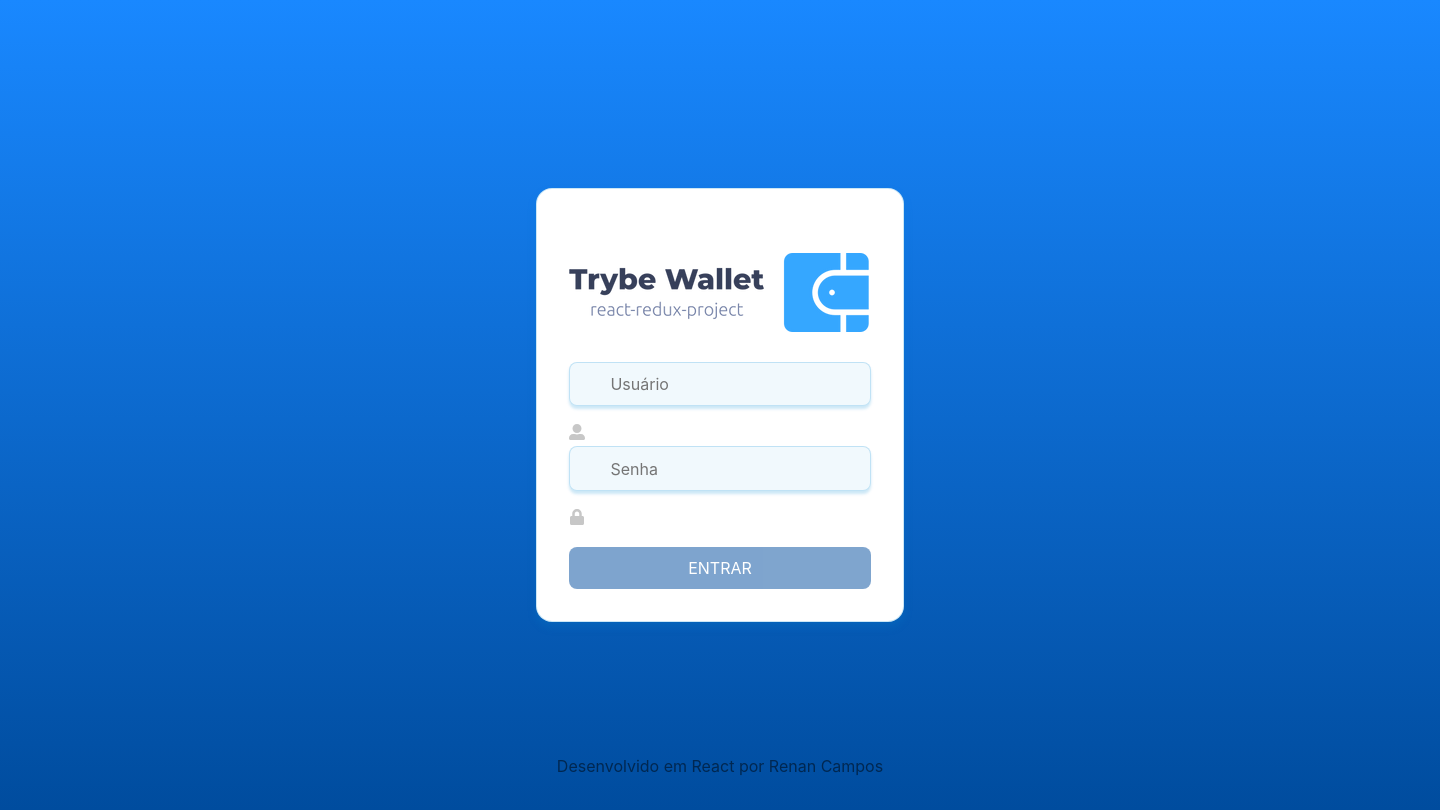
Scenario: Tests for Trybe Wallet application › Login Component
Expected: the password field with placeholder "Senha" is shown, [569,446,871,491]
Expected: the button is shown, [569,547,871,589]
Type "daniel@wolter.com" into the field with placeholder "Usuário".
click(720, 384); type("daniel@wolter.com")  # box [569,362,871,406]
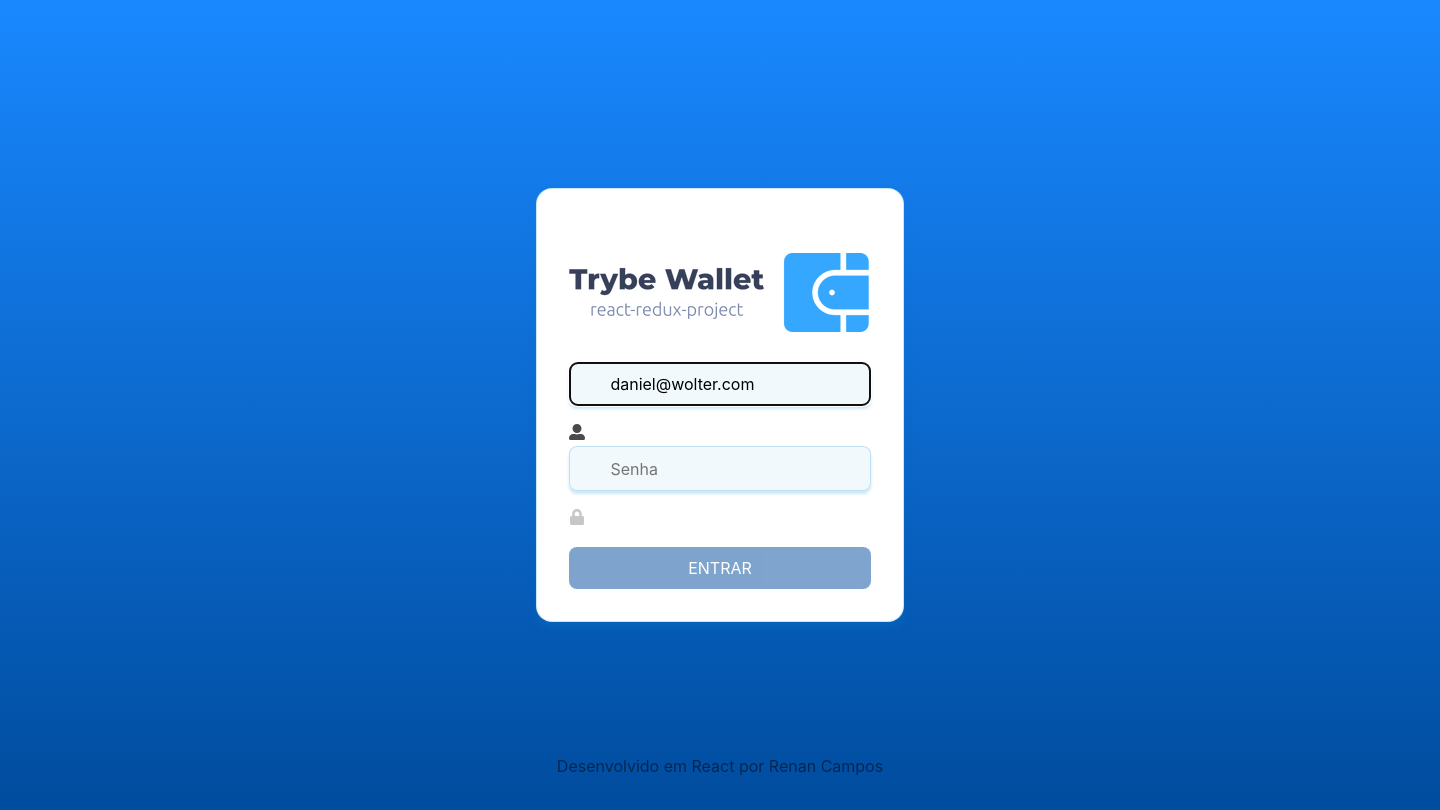
Type "12345678" into the password field with placeholder "Senha".
click(720, 468); type("12345678")  # box [569,446,871,491]
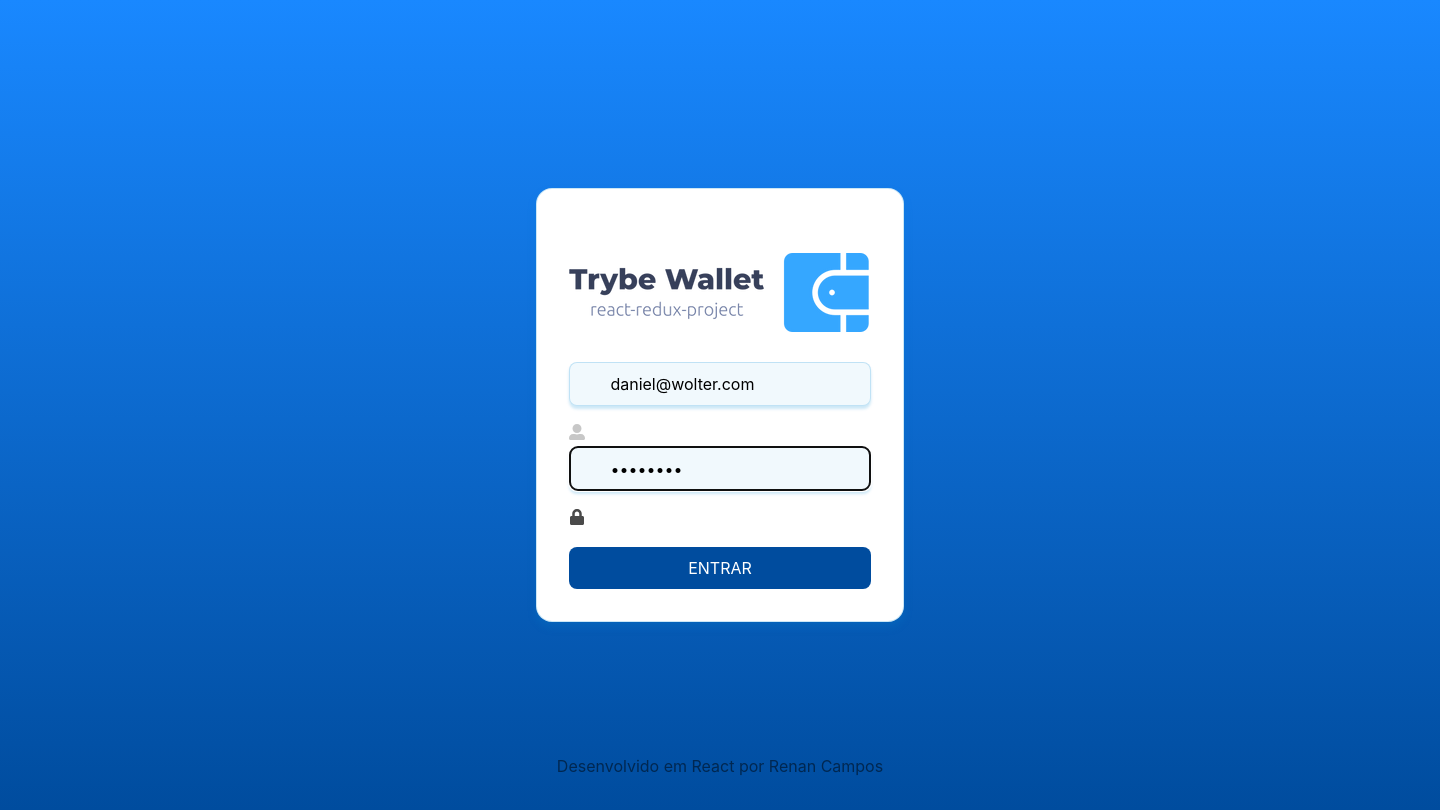
Click the button.
click(720, 568)  # box [569,547,871,589]
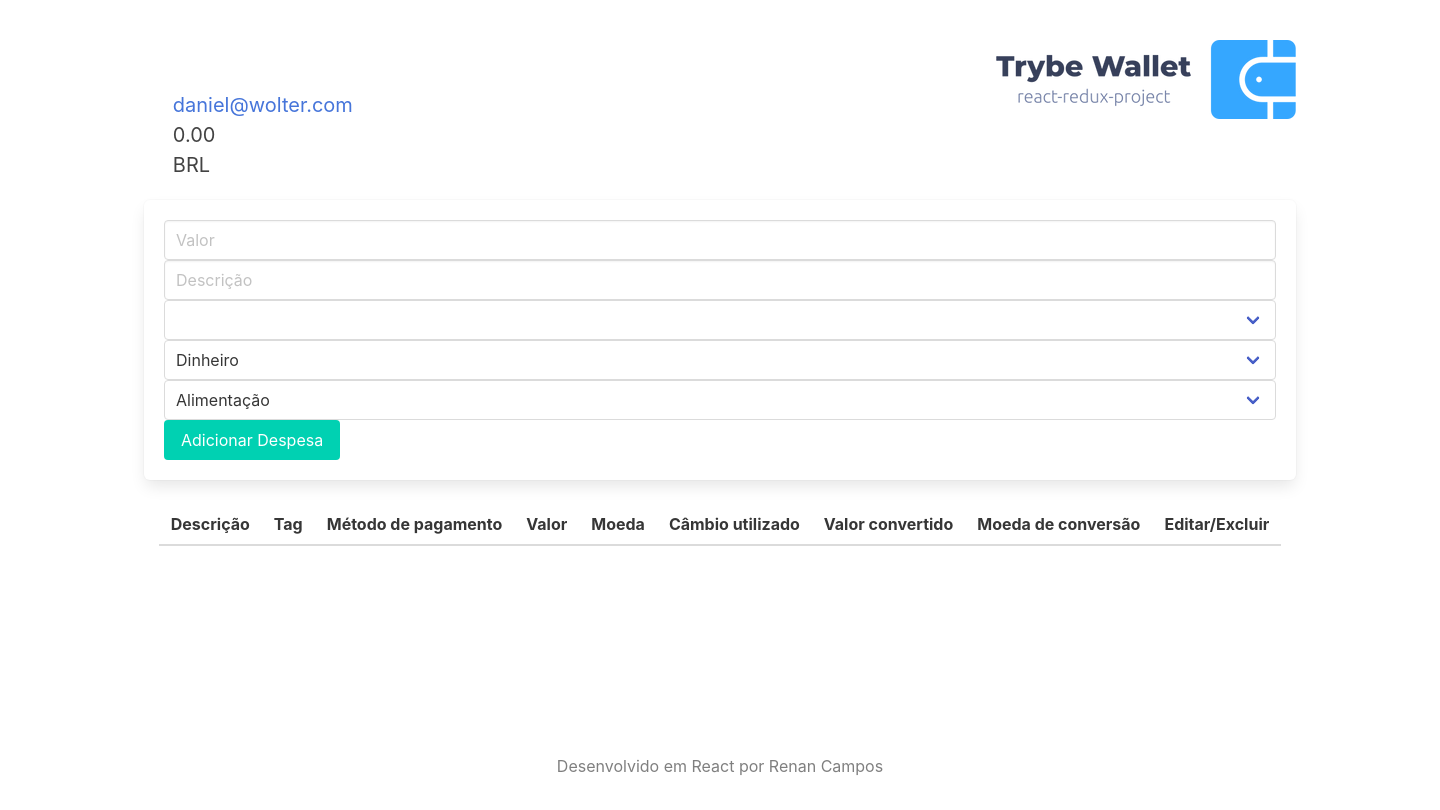
Result: the heading "daniel@wolter.com" is shown at [173,90,353,120]
Result: the heading "BRL" is shown at [173,153,210,177]
